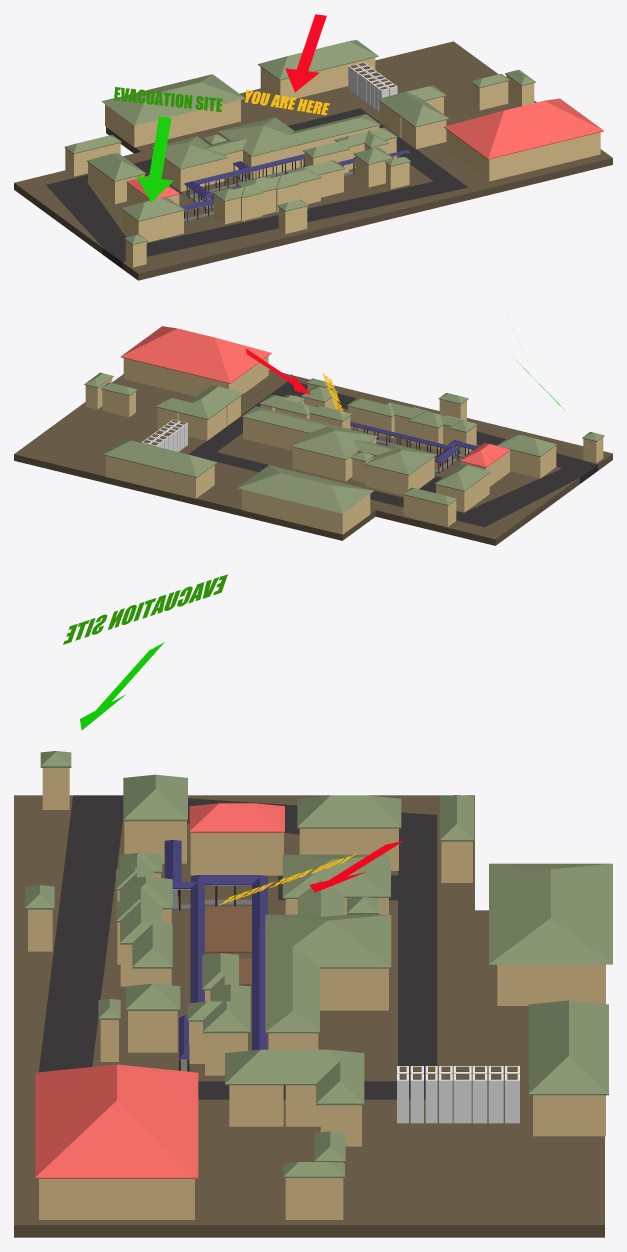
File: MECHDEPARTMENT.glb
3 views of the same model, one above another, from view 1: azimuth 30°, elevation 25°; view 2: azimuth 150°, elevation 25°; view 3: azimuth 270°, elevation 25° (orthographic). The views are drawn at different scales.
Parts seen in each view (by area): view 1: Toposolid Grassland - 1200mm [352516], Toposolid Grassland - 1200mm [354195], Basic Roof Generic - 125mm [387914], Basic Roof Generic - 125mm [384035], Toposolid Grassland - 1200mm [354195].001, Basic Roof Generic - 125mm [378573], Basic Wall Generic - 200mm [355787], Basic Wall Generic - 200mm [355672], Basic Roof Generic - 125mm [385592], Basic Roof Generic - 125mm [385698], Basic Roof Generic - 125mm [387351], Basic Wall Generic - 200mm [355773] (+28 smaller); view 2: Toposolid Grassland - 1200mm [352516], Toposolid Grassland - 1200mm [354195], Basic Roof Generic - 125mm [387914], Basic Roof Generic - 125mm [384035], Basic Roof Generic - 125mm [378573], Basic Wall Generic - 200mm [355757], Basic Roof Generic - 125mm [385592], Basic Wall Generic - 200mm [355771], Basic Wall Generic - 200mm [355789], Basic Roof Generic - 125mm [385698], Basic Roof Generic - 125mm [387351], Basic Wall Generic - 200mm [357221] (+25 smaller); view 3: Toposolid Grassland - 1200mm [352516], Toposolid Grassland - 1200mm [354195], Basic Roof Generic - 125mm [387914], Basic Roof Generic - 125mm [384035], Toposolid Grassland - 1200mm [354195].001, Basic Roof Generic - 125mm [378573], Basic Roof Generic - 125mm [385592], Basic Wall Generic - 200mm [355788], Basic Roof Generic - 125mm [389243], Basic Roof Generic - 125mm [387351], Basic Roof Generic - 125mm [385698], Basic Wall Generic - 200mm [355719] (+26 smaller).
Boxes of the visible parts, x1=… form: Toposolid Grassland - 1200mm [352516]: x1=14, y1=41, x2=612, y2=280; Toposolid Grassland - 1200mm [354195]: x1=46, y1=108, x2=468, y2=268; Basic Roof Generic - 125mm [387914]: x1=444, y1=98, x2=603, y2=159; Basic Roof Generic - 125mm [384035]: x1=151, y1=114, x2=380, y2=169; Toposolid Grassland - 1200mm [354195].001: x1=123, y1=181, x2=463, y2=261; Basic Roof Generic - 125mm [378573]: x1=101, y1=74, x2=245, y2=125; Basic Wall Generic - 200mm [355787]: x1=490, y1=132, x2=600, y2=181; Basic Wall Generic - 200mm [355672]: x1=135, y1=100, x2=240, y2=147; Basic Roof Generic - 125mm [385592]: x1=258, y1=40, x2=378, y2=80; Basic Roof Generic - 125mm [385698]: x1=213, y1=160, x2=344, y2=201; Basic Roof Generic - 125mm [387351]: x1=377, y1=85, x2=449, y2=127; Basic Wall Generic - 200mm [355773]: x1=281, y1=57, x2=375, y2=100; Toposolid Grassland - 1200mm [352516]: x1=14, y1=369, x2=612, y2=545; Toposolid Grassland - 1200mm [354195]: x1=188, y1=381, x2=597, y2=527; Basic Roof Generic - 125mm [387914]: x1=120, y1=326, x2=271, y2=383; Basic Roof Generic - 125mm [384035]: x1=242, y1=406, x2=436, y2=475; Basic Roof Generic - 125mm [378573]: x1=238, y1=465, x2=373, y2=513; Basic Wall Generic - 200mm [355757]: x1=243, y1=489, x2=341, y2=534; Basic Roof Generic - 125mm [385592]: x1=103, y1=439, x2=217, y2=477; Basic Wall Generic - 200mm [355771]: x1=107, y1=456, x2=196, y2=498; Basic Wall Generic - 200mm [355789]: x1=124, y1=358, x2=229, y2=396; Basic Roof Generic - 125mm [385698]: x1=347, y1=398, x2=477, y2=432; Basic Roof Generic - 125mm [387351]: x1=155, y1=385, x2=243, y2=419; Basic Wall Generic - 200mm [357221]: x1=243, y1=417, x2=307, y2=450; Toposolid Grassland - 1200mm [352516]: x1=14, y1=795, x2=604, y2=1237; Toposolid Grassland - 1200mm [354195]: x1=39, y1=795, x2=437, y2=1099; Basic Roof Generic - 125mm [387914]: x1=35, y1=1064, x2=198, y2=1178; Basic Roof Generic - 125mm [384035]: x1=265, y1=854, x2=391, y2=1033; Toposolid Grassland - 1200mm [354195].001: x1=39, y1=796, x2=122, y2=1071; Basic Roof Generic - 125mm [378573]: x1=489, y1=863, x2=612, y2=964; Basic Roof Generic - 125mm [385592]: x1=528, y1=1000, x2=608, y2=1095; Basic Wall Generic - 200mm [355788]: x1=41, y1=1179, x2=194, y2=1219; Basic Roof Generic - 125mm [389243]: x1=164, y1=840, x2=267, y2=1059; Basic Roof Generic - 125mm [387351]: x1=225, y1=1049, x2=364, y2=1105; Basic Roof Generic - 125mm [385698]: x1=116, y1=852, x2=172, y2=968; Basic Wall Generic - 200mm [355719]: x1=499, y1=964, x2=605, y2=1005.
Size of the model in its own units: 86 by 25.38 by 50.68.
